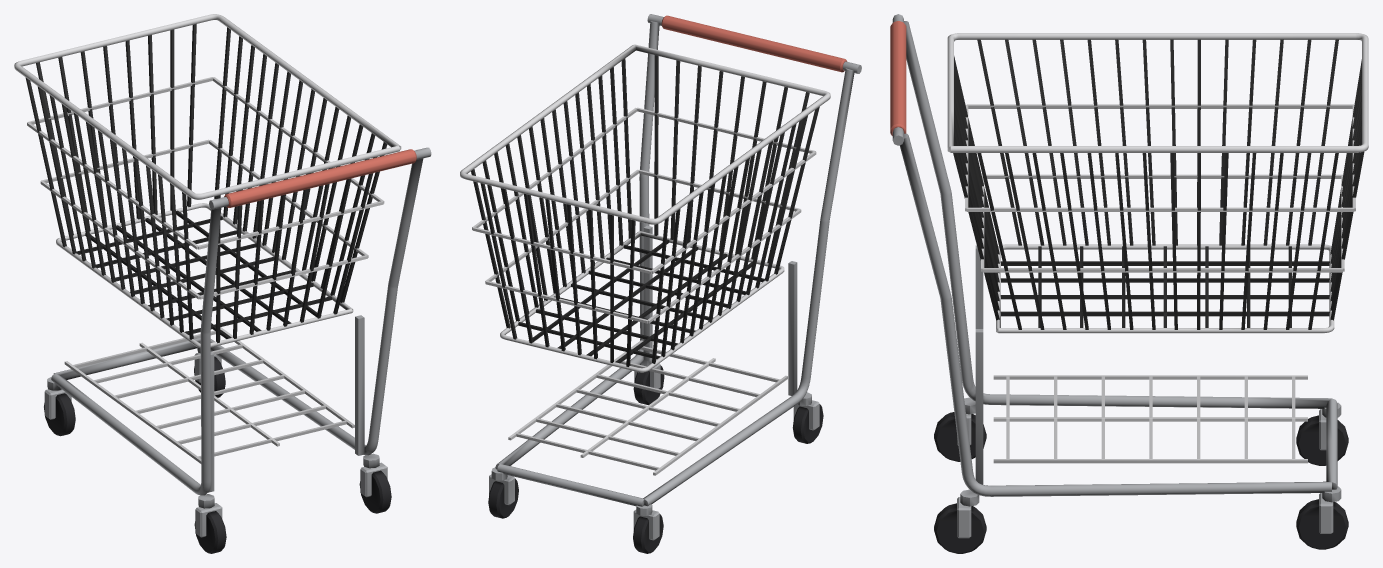
File: trolley.glb
3 renders of one model, left to right at view 1: azimuth 30°, elevation 25°; view 2: azimuth 150°, elevation 25°; view 3: azimuth 270°, elevation 25°, orthographic. The views are drawn at different scales.
Parts seen in each view (by area): view 1: PART; view 2: PART; view 3: PART.
Boxes of the visible parts, box(x1,y1,x2,y2) form: PART: box(14, 14, 431, 553); PART: box(460, 14, 861, 553); PART: box(890, 14, 1368, 553).
Size of the model in its own units: 0.6 by 0.9987 by 0.9988.
